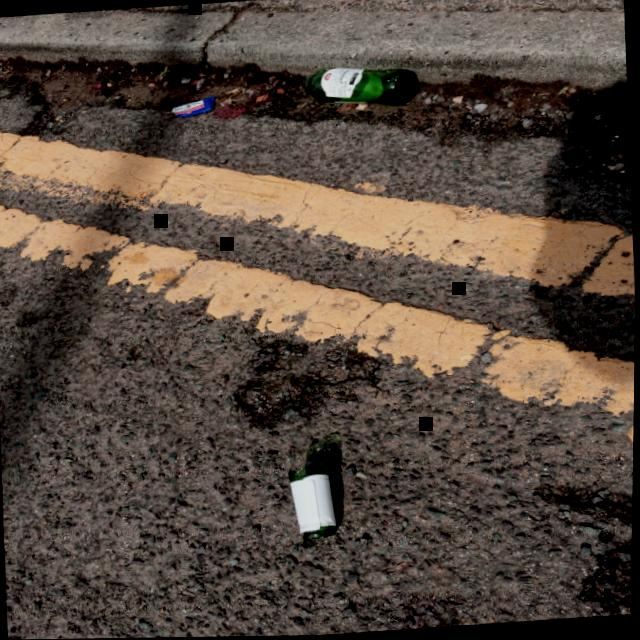Glass bottle: (304, 68, 418, 106), (289, 462, 337, 540)
Other plastic: (171, 96, 215, 117)
